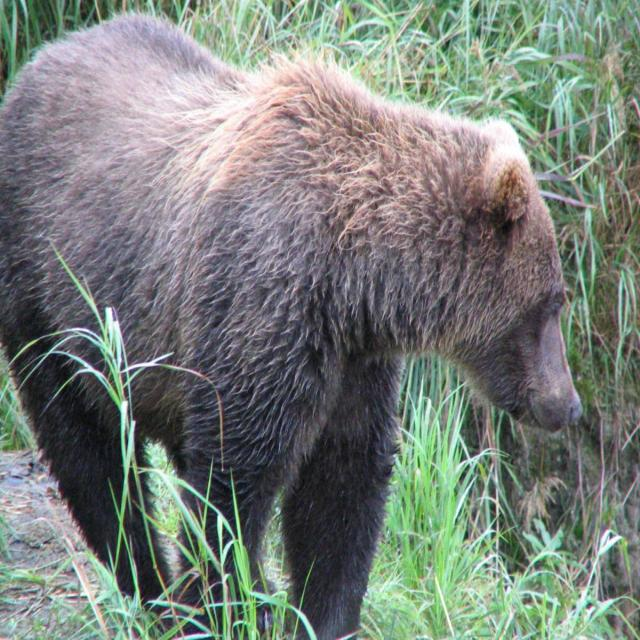bear face: (0, 11, 586, 640)
